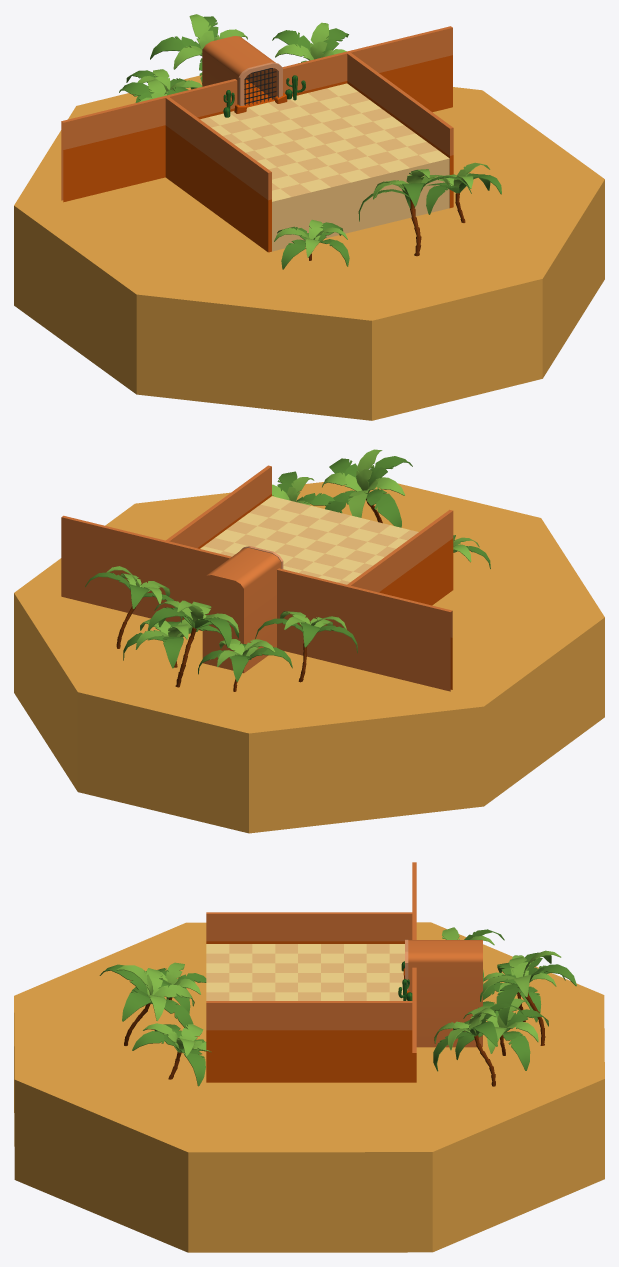
3 views of the same model, one above another, from view 1: azimuth 30°, elevation 25°; view 2: azimuth 150°, elevation 25°; view 3: azimuth 270°, elevation 25° (orthographic).
Visible parts, largest first — view 1: base_01, main, base_03, base_02, door; view 2: base_01, main, base_03, base_02; view 3: base_01, base_02, main, base_03.
Part boxes in pixels (<box>): base_01: <box>14,14,604,420</box>; main: <box>200,83,449,251</box>; base_03: <box>164,96,271,252</box>; base_02: <box>347,51,453,207</box>; door: <box>244,68,276,105</box>; base_01: <box>14,449,604,833</box>; main: <box>200,496,418,584</box>; base_03: <box>347,509,453,605</box>; base_02: <box>166,465,271,548</box>; base_01: <box>14,862,604,1252</box>; base_02: <box>206,1001,416,1082</box>; main: <box>206,944,407,1000</box>; base_03: <box>206,912,412,943</box>.
Size of the model in its own units: 20288 by 10133 by 22012.
